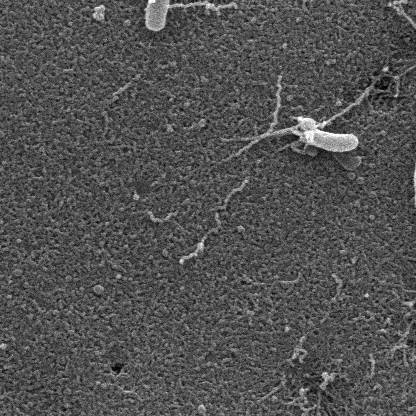cell2surface: (312, 81, 382, 129), (227, 124, 312, 157), (164, 0, 236, 12)
filament: (412, 31, 416, 212)
regular: (297, 122, 358, 153), (145, 0, 188, 29)
